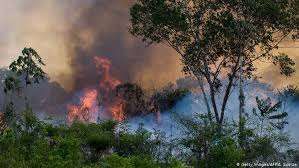fire: (72, 76, 126, 137)
smoke: (68, 4, 151, 70)
